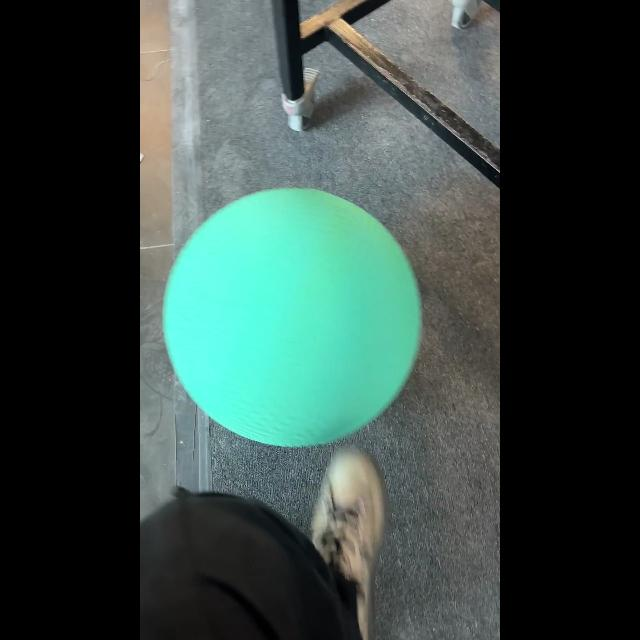ALGAE: (162, 186, 422, 448)
